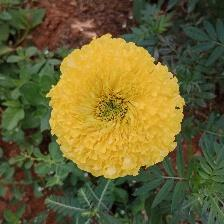marigold: (48, 34, 189, 184)
